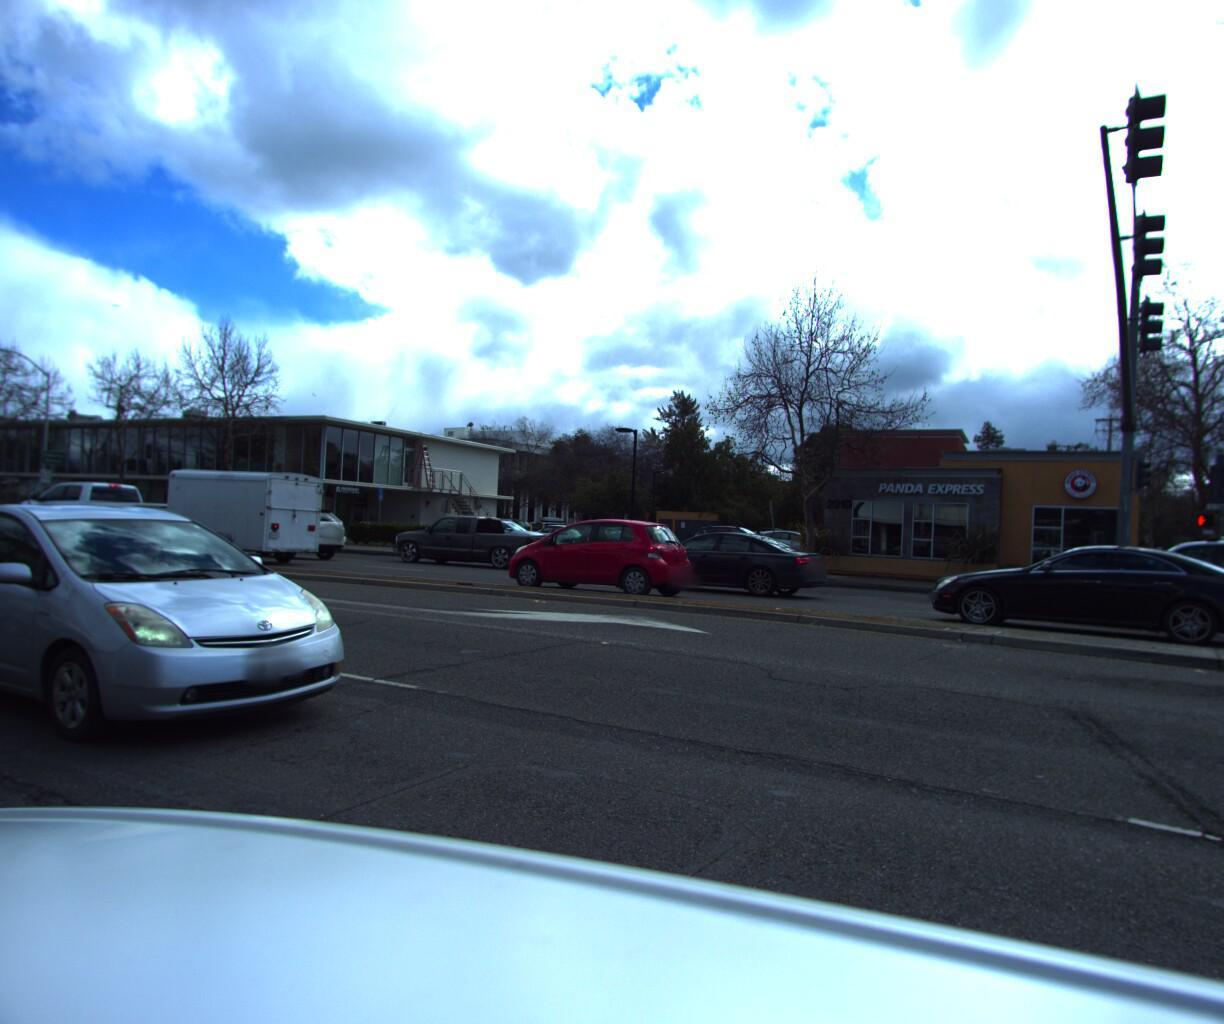car: (0, 492, 390, 784), (922, 542, 1224, 666), (1033, 534, 1224, 652), (493, 519, 703, 610), (617, 533, 837, 610), (0, 484, 197, 568), (385, 517, 561, 579), (211, 505, 366, 568)
other_vehicle: (152, 473, 328, 574)
truck: (0, 469, 65, 546)
